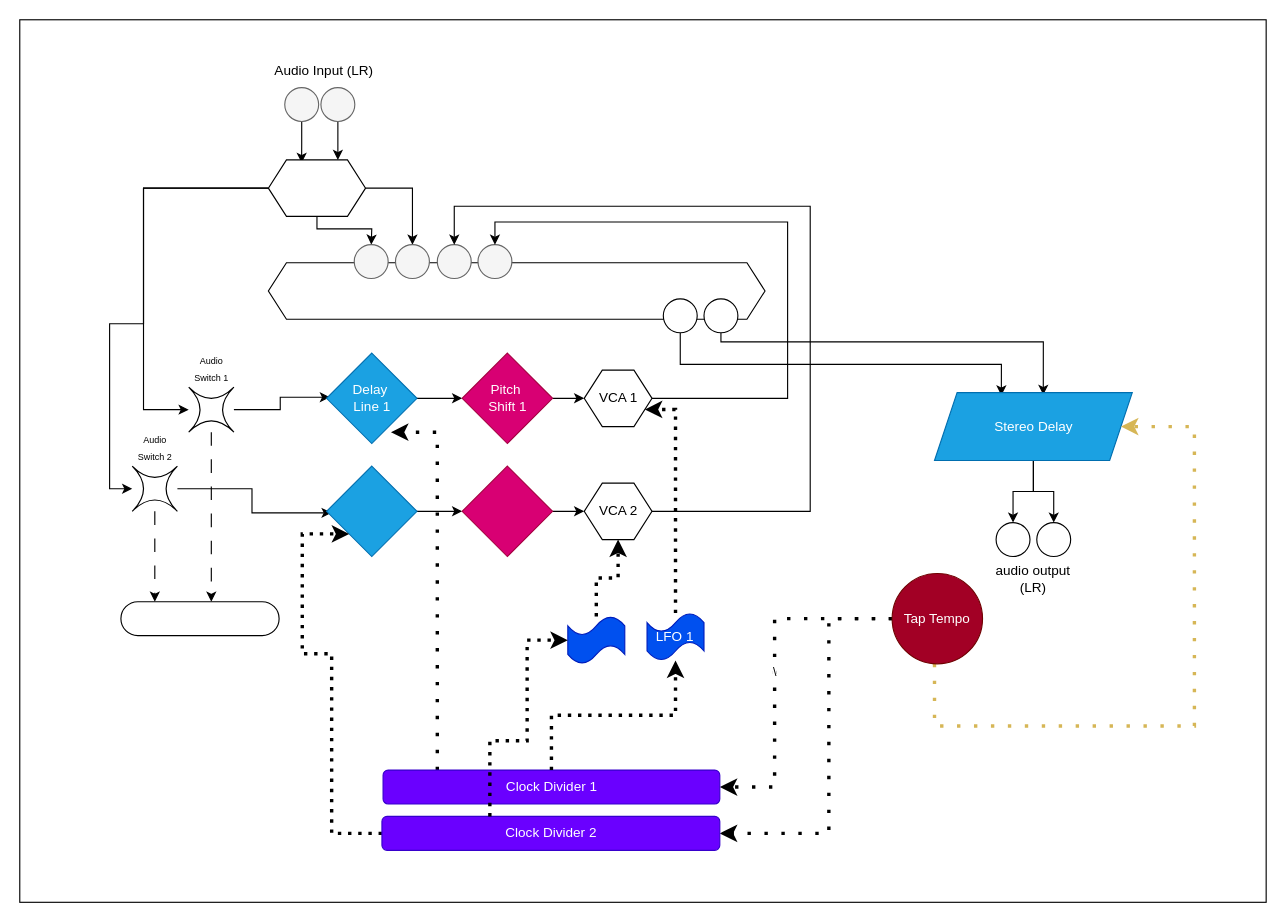
Some shapes in this 1286 by 922 pixel diagram are drawn without their labels. The box of each missing label's shape, as (x1, y1, x2, y2) in pixels:
Delay Line 2: (325, 465, 417, 557)
LFO 2: (567, 615, 625, 664)
Mixer: (267, 262, 765, 319)
No output: (120, 601, 279, 636)
Pitch Shift 2: (461, 465, 553, 557)
VCA: (267, 159, 366, 216)
